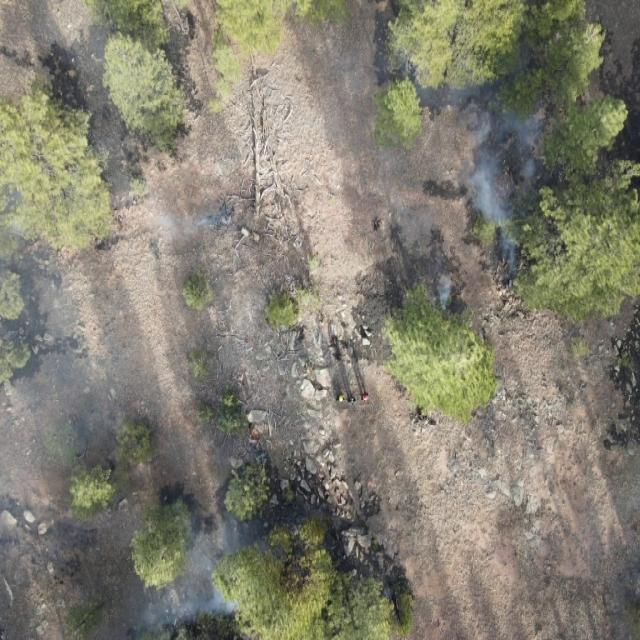fire: (248, 426, 264, 442)
smoke: (0, 0, 266, 640), (317, 43, 558, 315)
